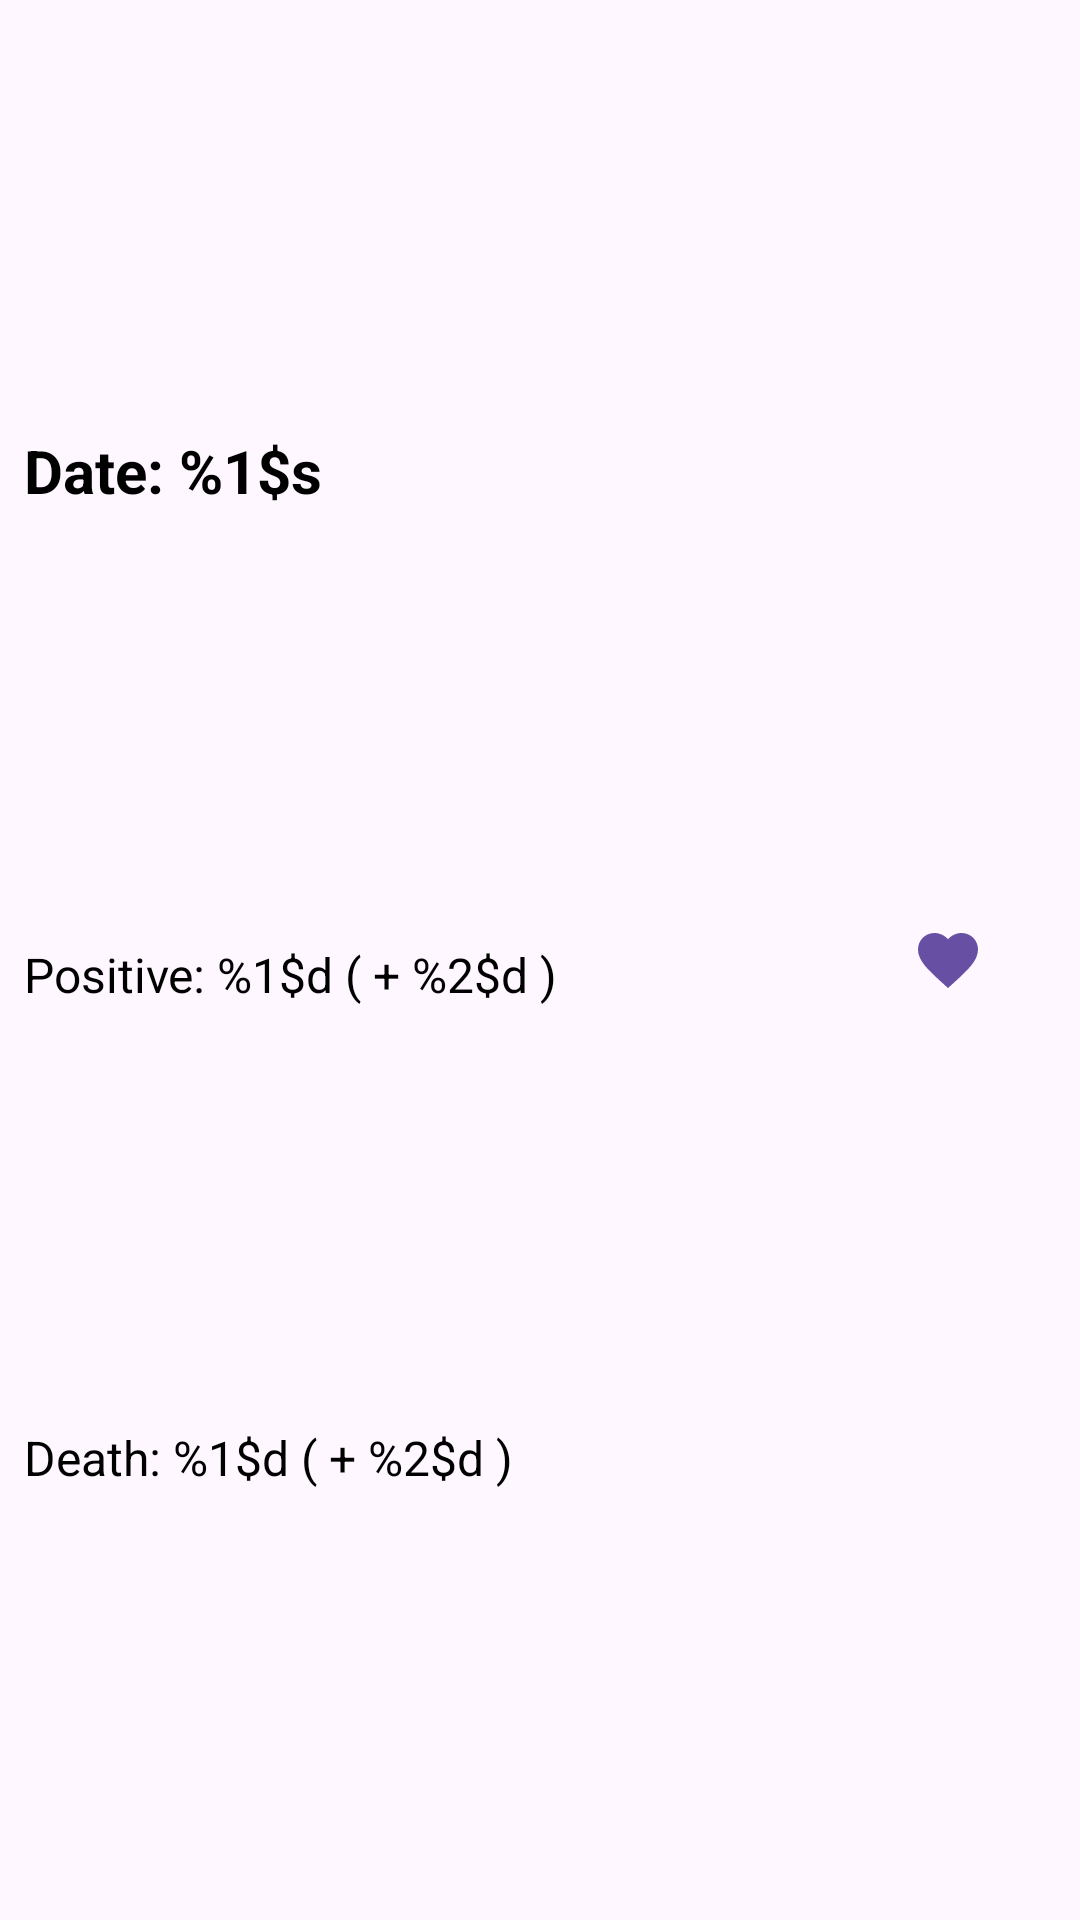

Icons on this 1080 × 1920 Android screen, each with its box as (x1, y1, x2, y2):
checkbox favorite: (918, 933, 978, 988)
